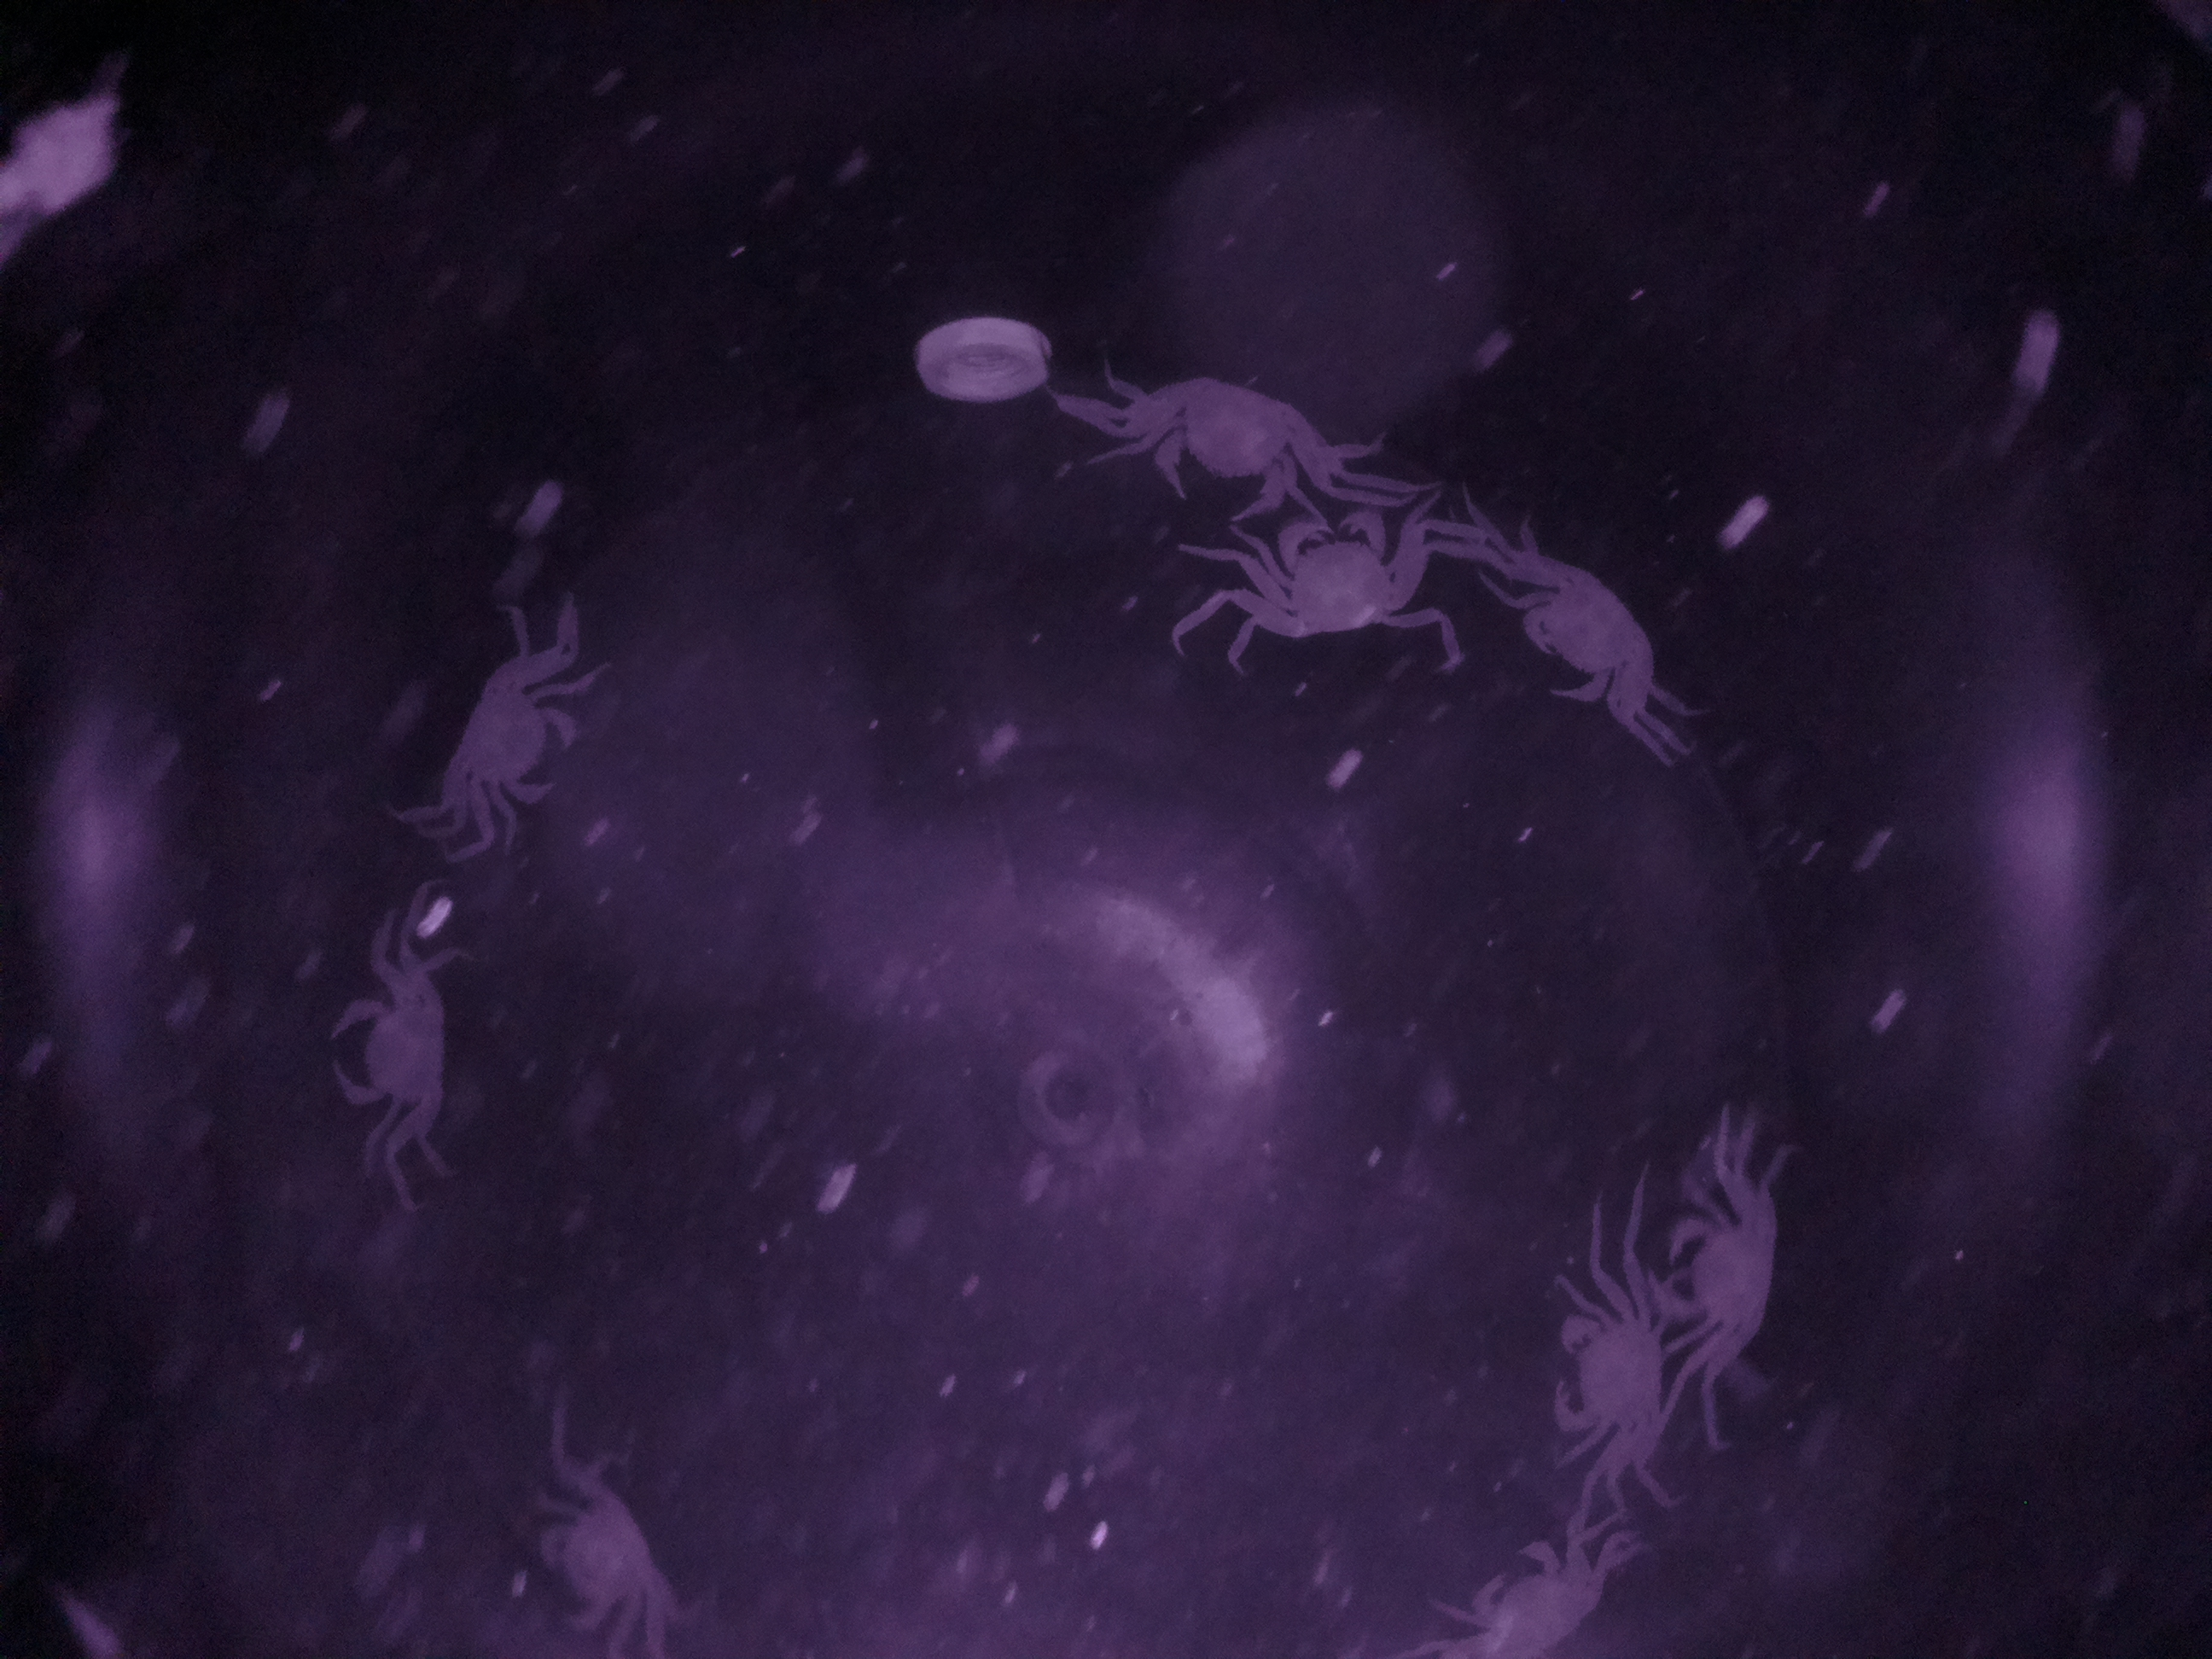Crab: (1489, 533, 1672, 721), (1524, 1279, 1695, 1478), (1111, 366, 1322, 518), (439, 650, 608, 835), (1235, 500, 1411, 660), (310, 972, 458, 1134)
